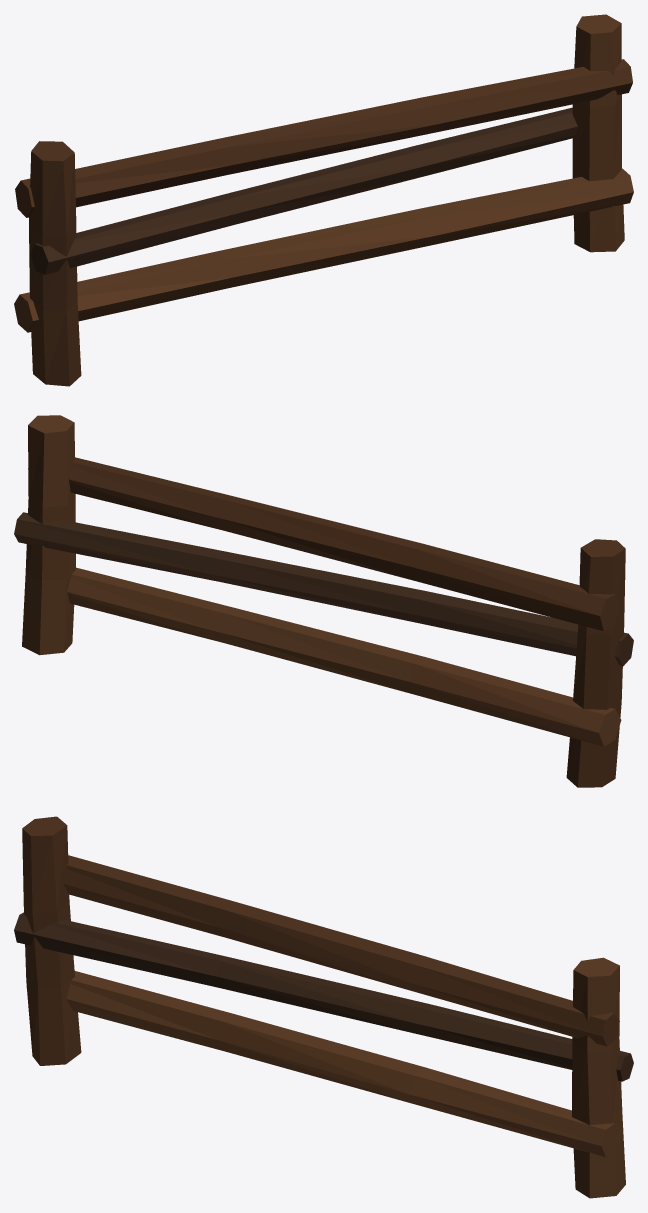
The model's file is fence.glb.
The picture shows the model from 3 angles, top to bottom: view 1: azimuth 30°, elevation 25°; view 2: azimuth 150°, elevation 25°; view 3: azimuth 330°, elevation 25°; orthographic projection.
Visible parts, largest first — view 1: fence_LOD0; view 2: fence_LOD0; view 3: fence_LOD0.
Boxes of the visible parts, <box> form: fence_LOD0: <box>14,14,633,386</box>; fence_LOD0: <box>14,415,633,787</box>; fence_LOD0: <box>14,816,633,1198</box>.
Size of the model in its own units: 3.16 by 1.18 by 0.3233.
